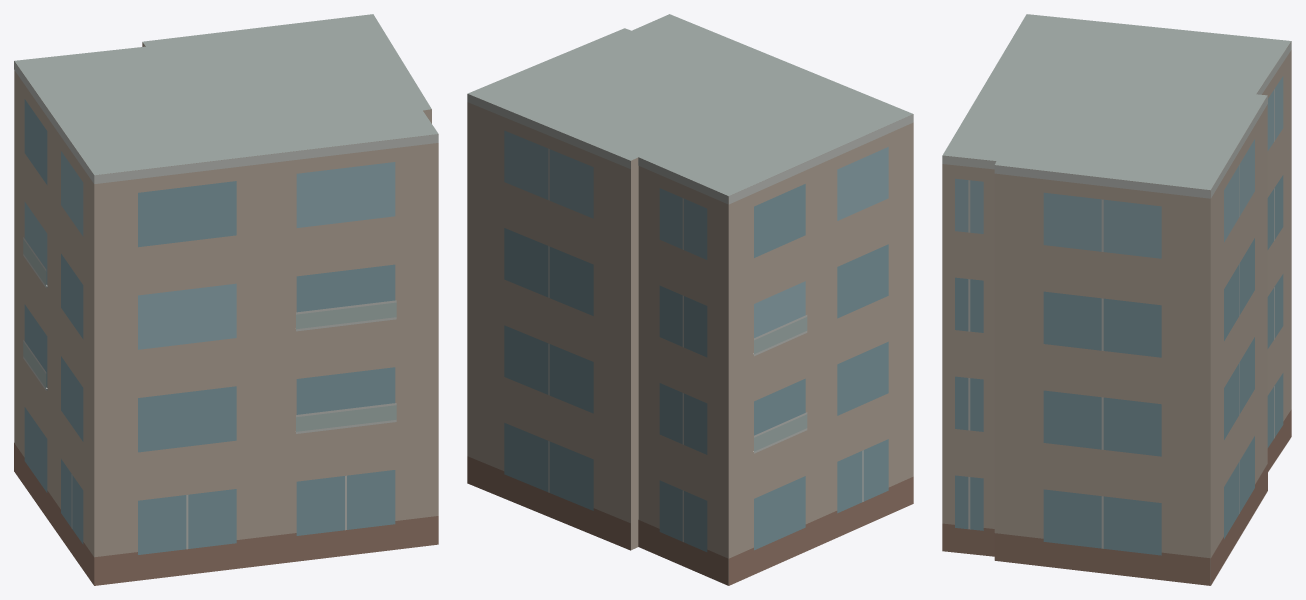
Rendered from survey-upis-32688839.glb.
The picture shows the model from 3 angles, left to right: view 1: azimuth 30°, elevation 25°; view 2: azimuth 150°, elevation 25°; view 3: azimuth 270°, elevation 25°; orthographic projection. The views are drawn at different scales.
Visible parts, largest first — view 1: survey-upis-32688839.tmp; view 2: survey-upis-32688839.tmp; view 3: survey-upis-32688839.tmp.
Part boxes in pixels (x1,y1,x2,y2): survey-upis-32688839.tmp: (14,14,438,585); survey-upis-32688839.tmp: (467,14,913,585); survey-upis-32688839.tmp: (942,14,1291,585).
Size of the model in its own units: 10.8 by 11.3 by 9.05.
